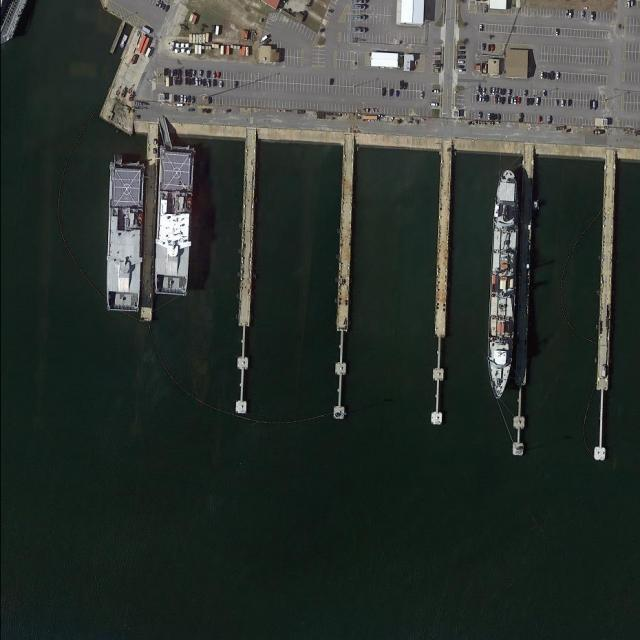Auxiliary Ships: (151, 145, 197, 296), (103, 157, 146, 312)
Cargo: (484, 167, 522, 401)
Dock: (511, 156, 538, 456), (330, 142, 358, 418), (429, 148, 454, 425), (235, 138, 259, 416), (594, 159, 613, 459)
